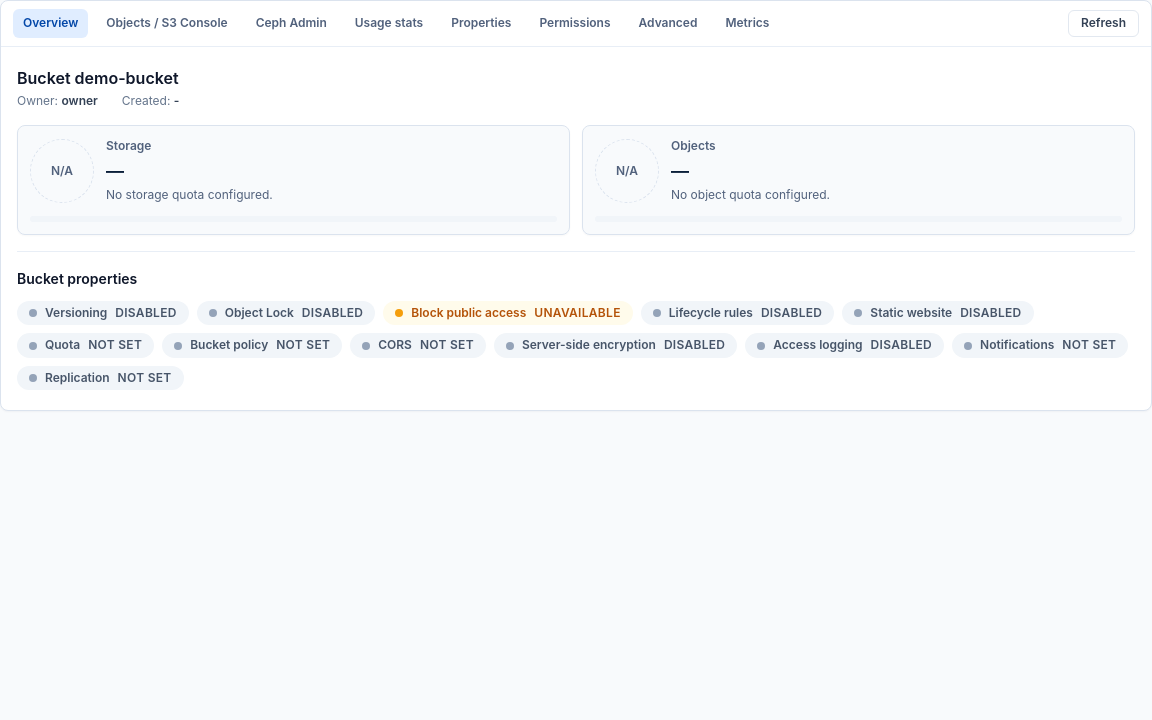
Test: BucketDetailPage replication state › keeps Properties cards visible when public access block is unavailable
Click the button "Properties": [481, 23] box [441,9,521,38]
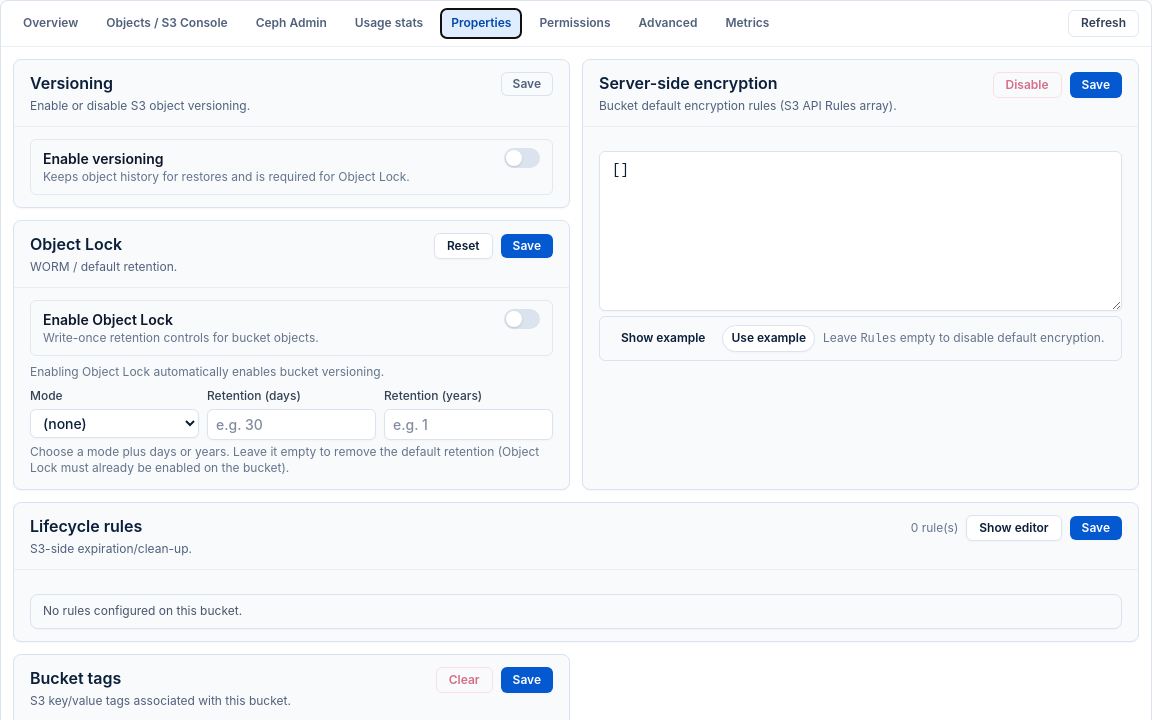
Check: the element with test id "bucket-feature-versioning" is shown, box [30,139,553,194]
Check: the element with test id "bucket-feature-object-lock" is shown, box [30,300,553,476]
Check: the element with test id "bucket-feature-lifecycle" is shown, box [30,594,1122,628]
